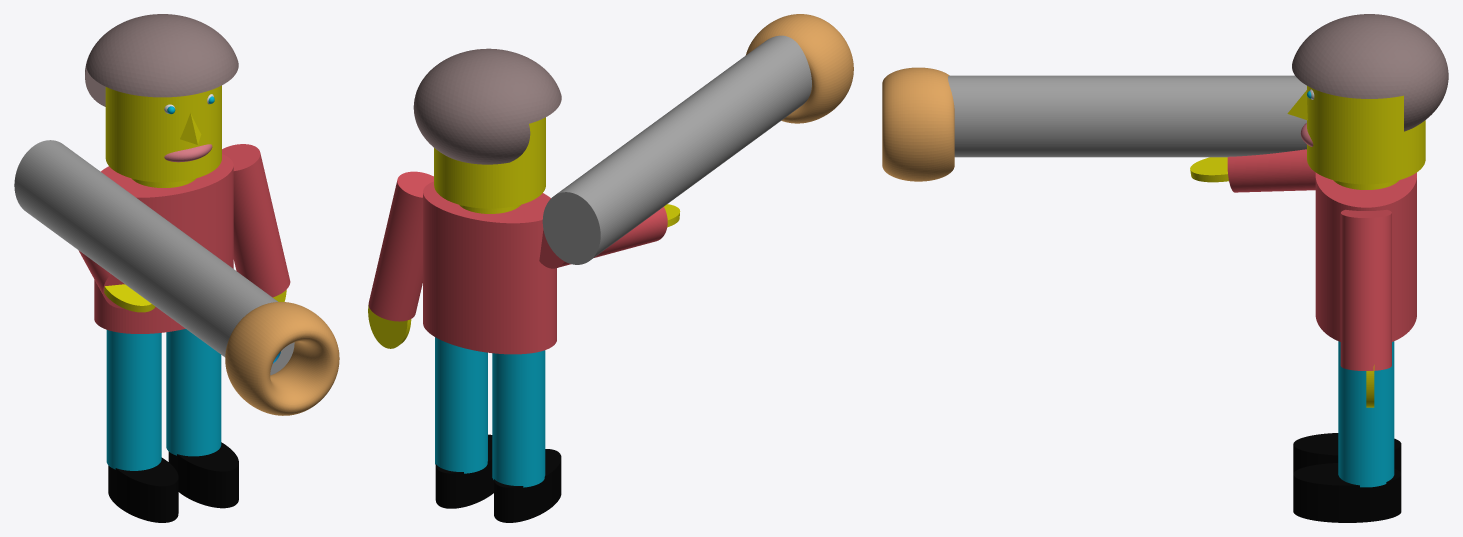
Rendered from person.glb.
3 renders of one model, left to right at view 1: azimuth 30°, elevation 25°; view 2: azimuth 150°, elevation 25°; view 3: azimuth 270°, elevation 25°, orthographic. The views are drawn at different scales.
Size of the model in its own units: 0.1082 by 0.176 by 0.1911.
